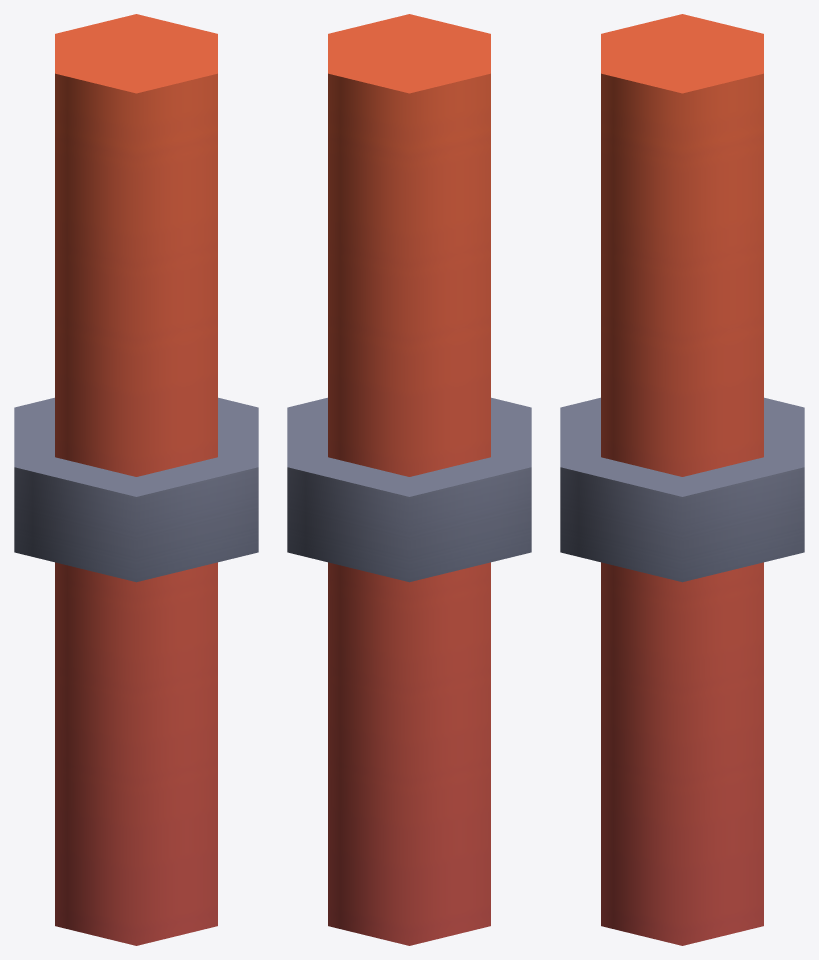
File: pipe-section.fbx
The picture shows the model from 3 angles, left to right: view 1: azimuth 30°, elevation 25°; view 2: azimuth 150°, elevation 25°; view 3: azimuth 270°, elevation 25°; orthographic projection.
Parts seen in each view (by area): view 1: pipe-section; view 2: pipe-section; view 3: pipe-section.
Part boxes in pixels (x1,y1,x2,y2): pipe-section: (14, 14, 258, 945); pipe-section: (287, 14, 531, 945); pipe-section: (560, 14, 804, 945).
Size of the model in its own units: 30 by 100 by 25.98.
